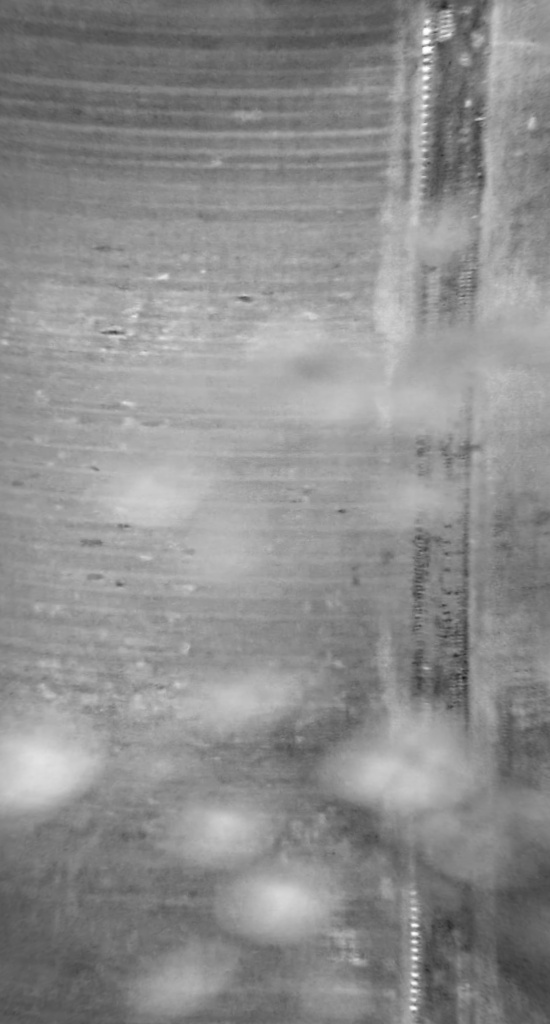splice: (400, 1, 497, 1021)
